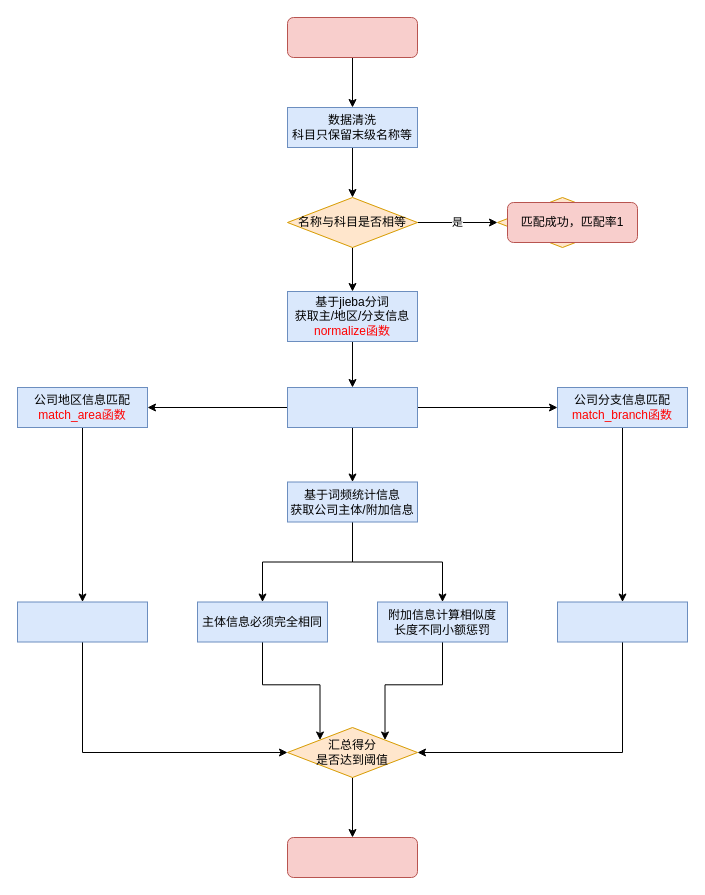
The diagram is 705 pixels wide and 895 high, and some of its shapes have lost their labels. Here are the shapes that lost their labels. From the top down, the box of each, then its label:
(286, 16, 418, 58): 企业名称匹配算法
(286, 386, 418, 428): 公司主要信息匹配 match_info函数
(16, 601, 148, 642): 地区可以简略 但如果不同给予惩罚
(556, 601, 688, 642): 分支信息必须完全相同 不同的给予惩罚
(286, 836, 418, 878): 输出结果及相似度
